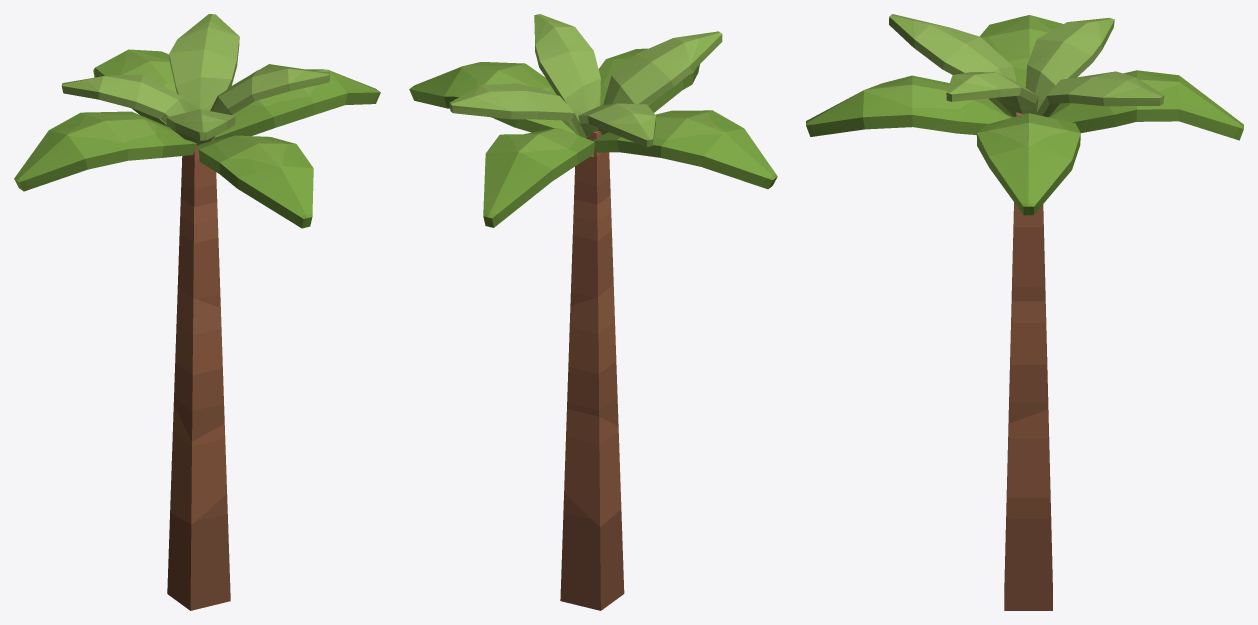
File: tall_palm_tree.glb
3 renders of one model, left to right at view 1: azimuth 30°, elevation 25°; view 2: azimuth 150°, elevation 25°; view 3: azimuth 270°, elevation 25°, orthographic. The views are drawn at different scales.
Parts seen in each view (by area): view 1: tall palm tree; view 2: tall palm tree; view 3: tall palm tree.
Part boxes in pixels (left/top/right/bottom): tall palm tree: left=14, top=14, right=380, bottom=610; tall palm tree: left=409, top=14, right=777, bottom=610; tall palm tree: left=806, top=14, right=1243, bottom=610.
Bounding box in the file's own units: 3.32 × 4.67 × 3.32.
1 material, 1 textured.
